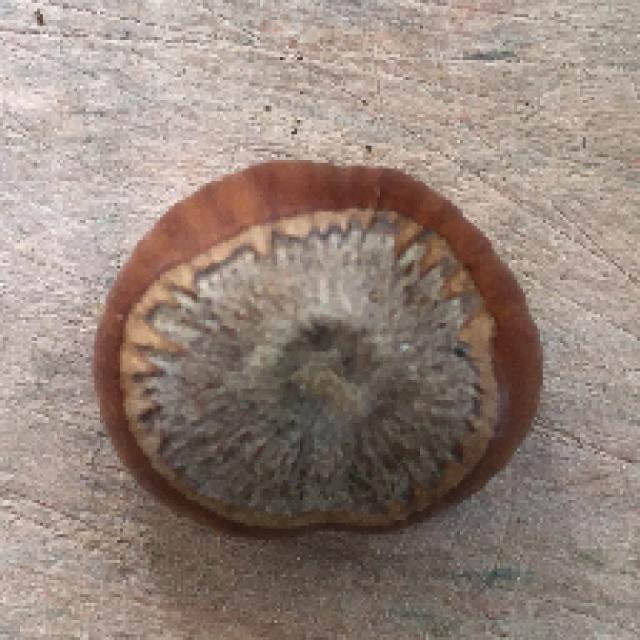qualityHazelnut: (101, 154, 549, 540)
